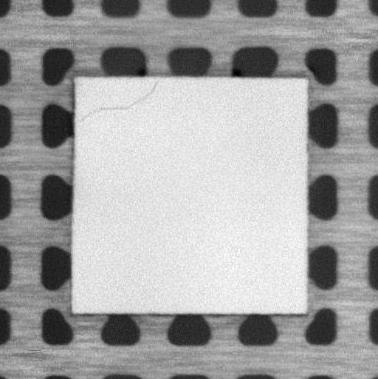DIE_CRACK: (80, 79, 162, 121)
